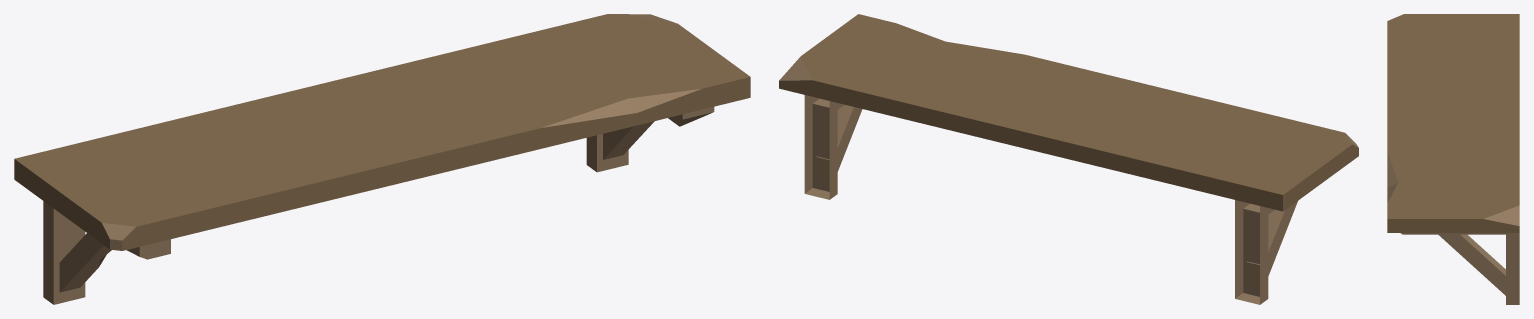
File: castle_shelf.gltf
The picture shows the model from 3 angles, left to right: view 1: azimuth 30°, elevation 25°; view 2: azimuth 150°, elevation 25°; view 3: azimuth 270°, elevation 25°; orthographic projection. The views are drawn at different scales.
Visible parts, largest first — view 1: castle_shelf; view 2: castle_shelf; view 3: castle_shelf.
Boxes of the visible parts, x1,y1,x2,y2 form: castle_shelf: (14, 14, 750, 304); castle_shelf: (779, 14, 1358, 304); castle_shelf: (1387, 14, 1519, 304).
Size of the model in its own units: 1.6 by 0.3511 by 0.4375.
Materials: 1 (1 with a texture image).
